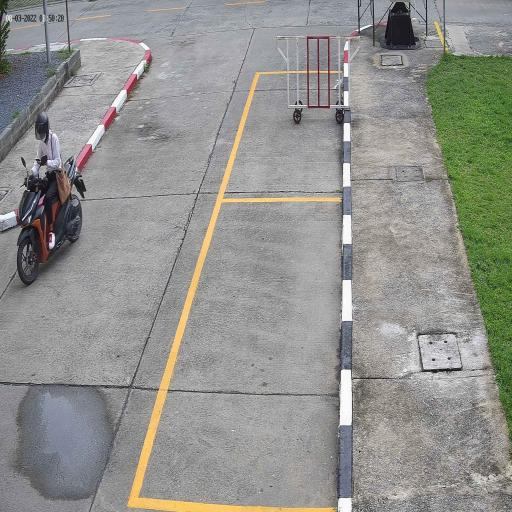motorcycle: (16, 174, 84, 287)
